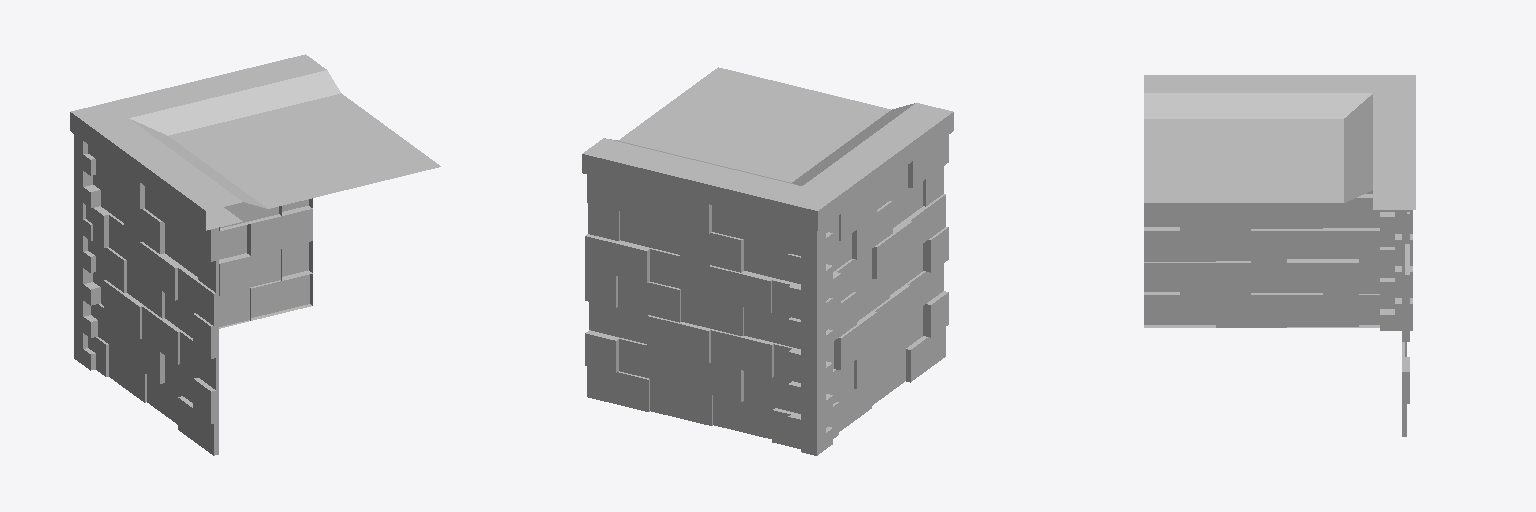
File: Outer_Corner_Wall_Roof_Outer_Corner.obj
The picture shows the model from 3 angles: view 1: azimuth 30°, elevation 25°; view 2: azimuth 150°, elevation 25°; view 3: azimuth 270°, elevation 25°; orthographic projection.
Parts seen in each view (by area): view 1: Outer_Corner_Wall_Roof_Outer_Corner; view 2: Outer_Corner_Wall_Roof_Outer_Corner; view 3: Outer_Corner_Wall_Roof_Outer_Corner.
Part boxes in pixels (left/top/right/bottom): Outer_Corner_Wall_Roof_Outer_Corner: left=70, top=54, right=440, bottom=455; Outer_Corner_Wall_Roof_Outer_Corner: left=582, top=67, right=953, bottom=455; Outer_Corner_Wall_Roof_Outer_Corner: left=1144, top=75, right=1415, bottom=436.
Size of the model in its own units: 0.95 by 0.95 by 0.95.